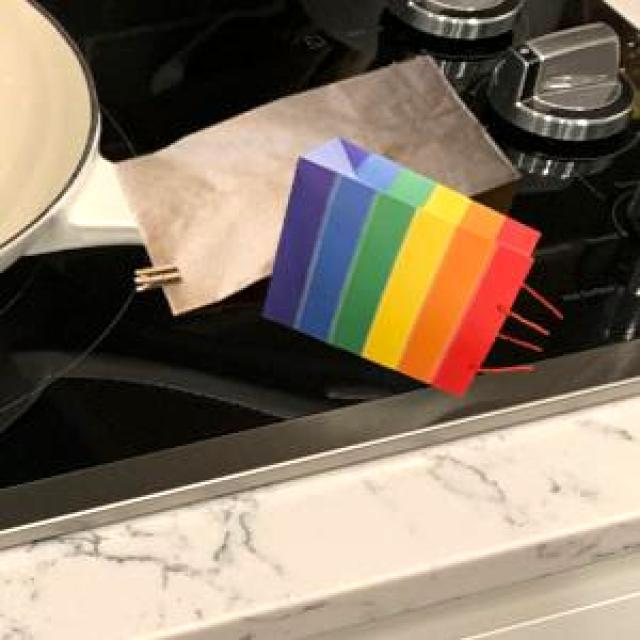Paper_Bag: (111, 52, 518, 313), (259, 133, 537, 394)
